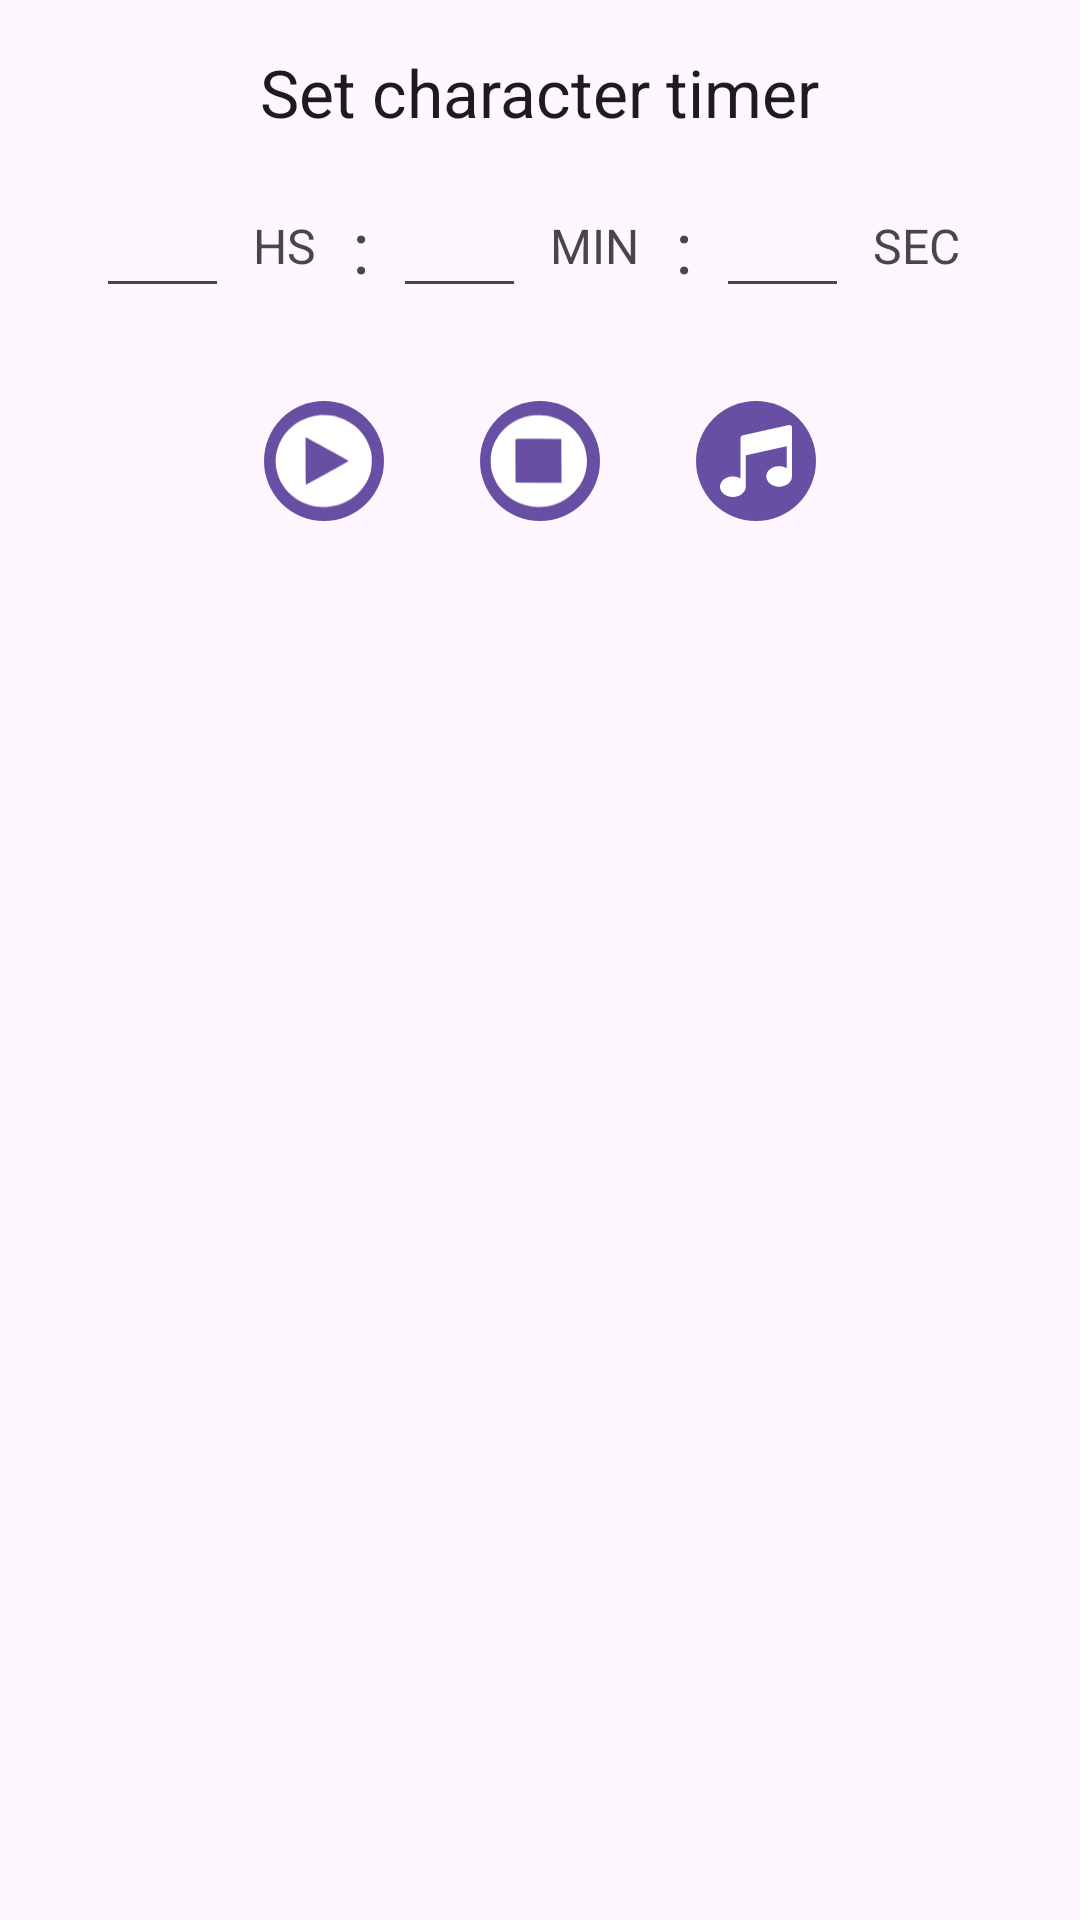

Point at icon controls on the screen. Image size 1080 x 1920, points as [x,y].
Play or Pause: [324,461]
Sound: [756,461]
Stop: [540,461]
